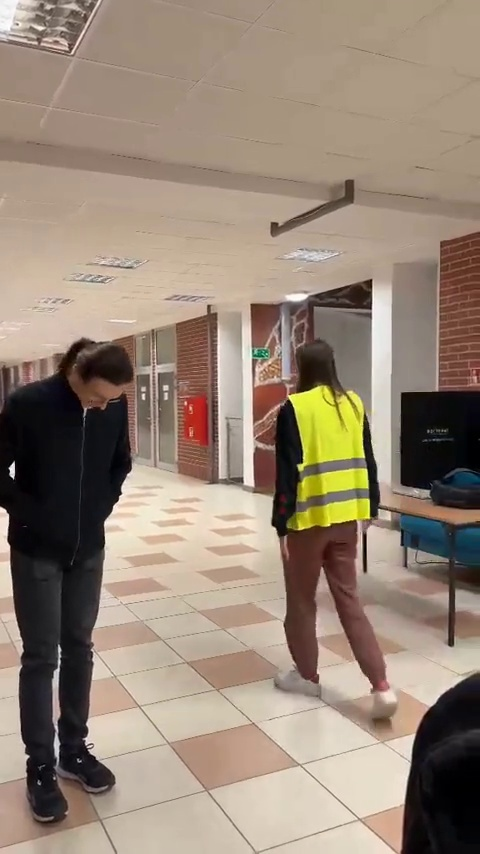no vest: (5, 338, 145, 836)
vest: (283, 340, 404, 730)
